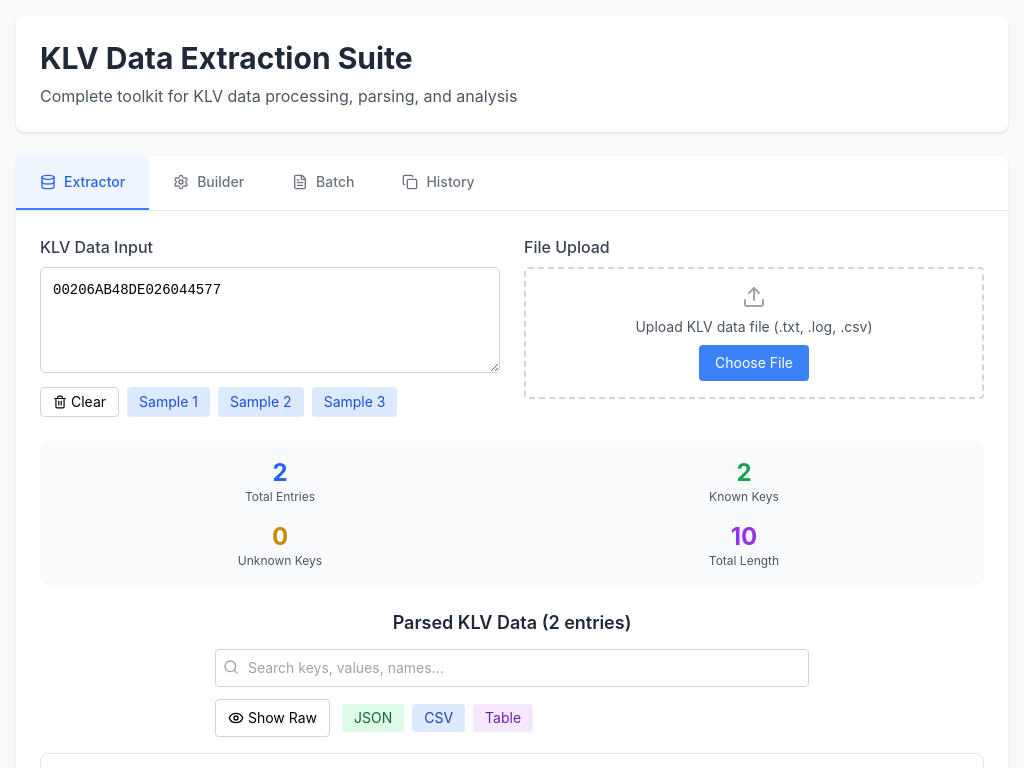
Scenario: App Integration Tests › Raw Data Toggle › should hide raw data when toggle is clicked again
Show raw data first
Click the button "Show Raw". click: (272, 718)
box: [215,699,330,737]
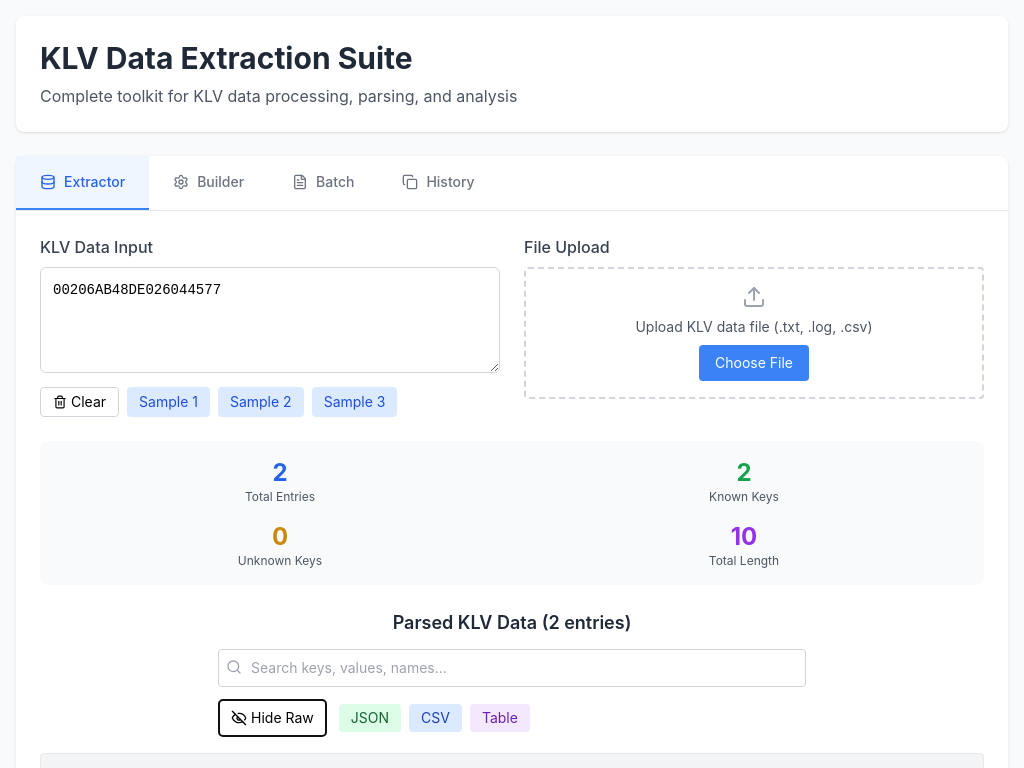
Hide raw data
Click the button "Hide Raw". click: (272, 718)
box: [218,699,327,737]
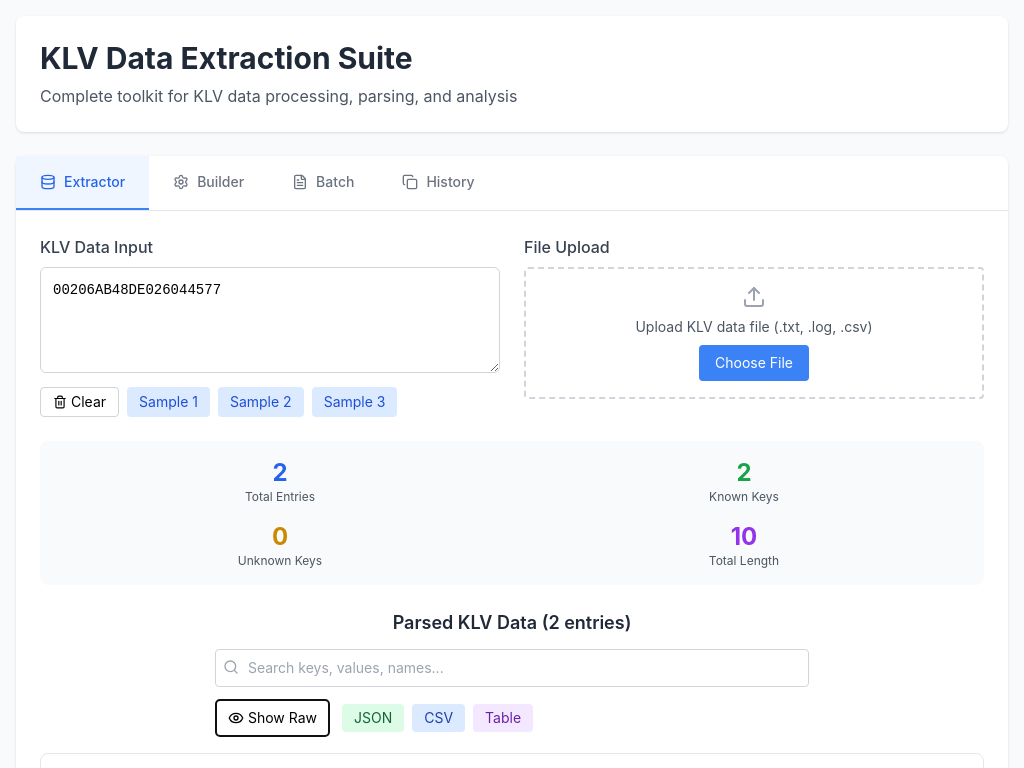
Now the button "Show Raw" is shown, box [215,699,330,737]
